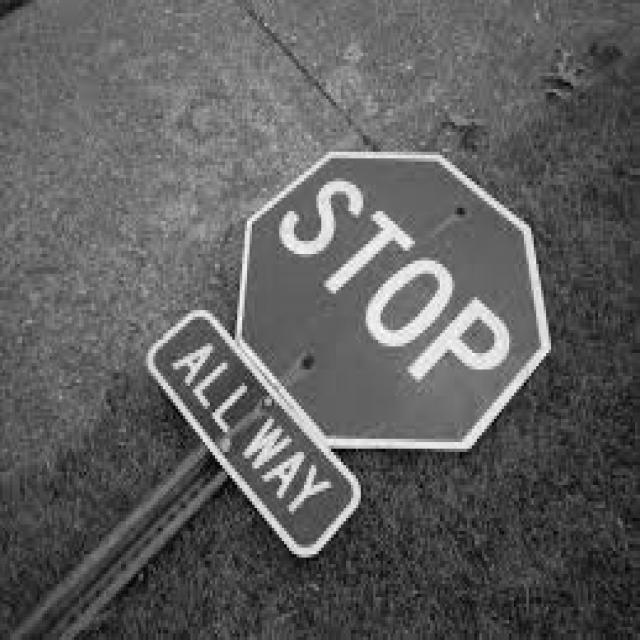stop sign: (147, 139, 556, 562)
